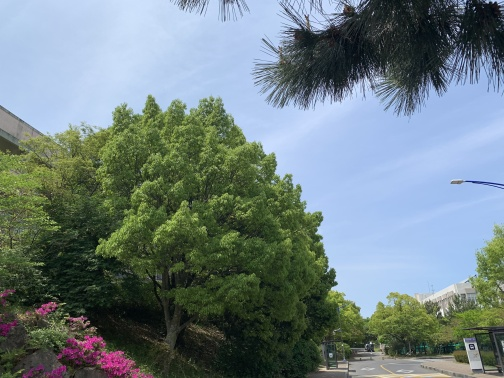College Of Education: (1, 100, 68, 168)
